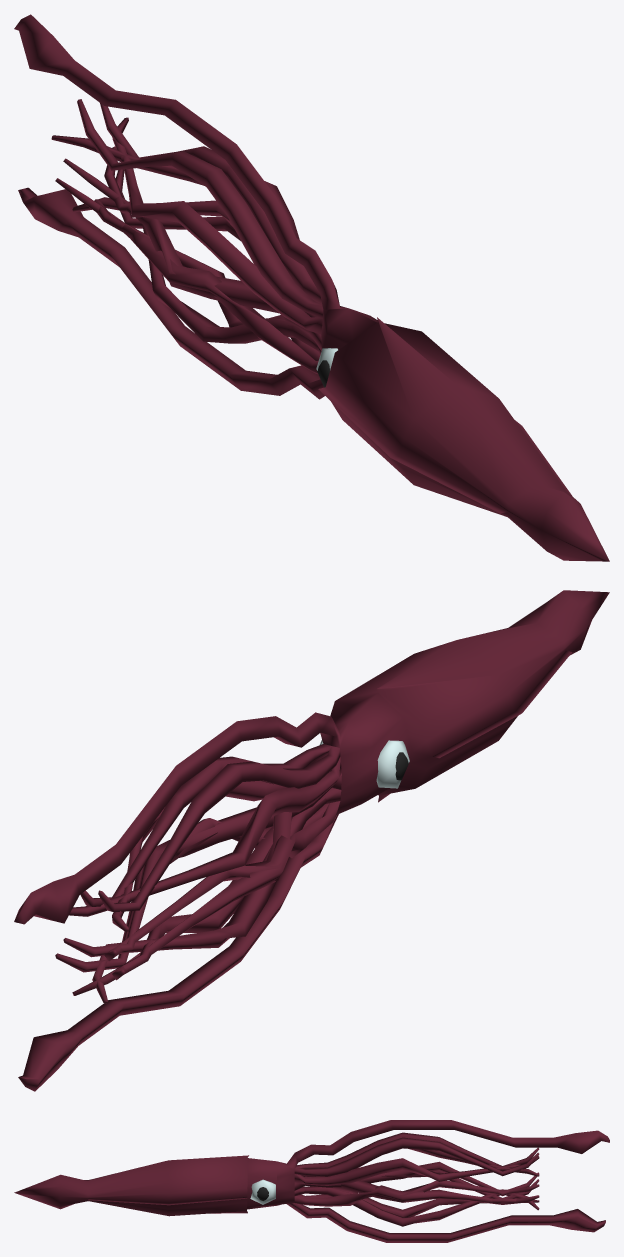
The model's file is squid.obj.
3 views of the same model, one above another, from view 1: azimuth 30°, elevation 25°; view 2: azimuth 150°, elevation 25°; view 3: azimuth 270°, elevation 25° (orthographic). The views are drawn at different scales.
Visible parts, largest first — view 1: Giant_Squid; view 2: Giant_Squid; view 3: Giant_Squid.
Boxes of the visible parts, x1=… form: Giant_Squid: x1=14, y1=14, x2=609, y2=561; Giant_Squid: x1=14, y1=590, x2=609, y2=1091; Giant_Squid: x1=14, y1=1120, x2=609, y2=1242.
Size of the model in its own units: 165 by 292 by 1286.
